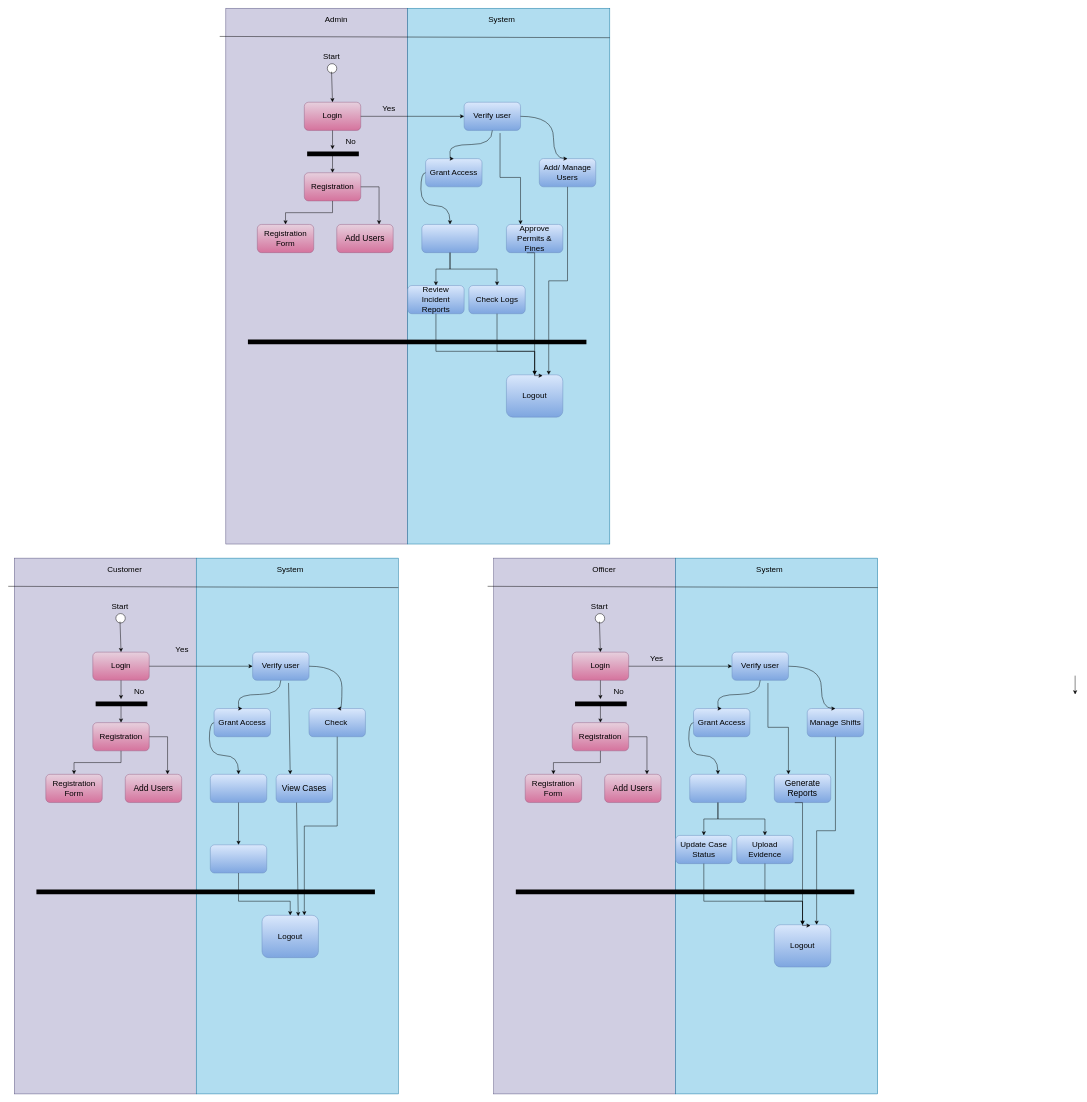
The diagram is 1087 pixels wide and 1102 high, and some of its shapes have lost their labels. Here are the shapes that lost their labels. From the top down, the box of each, then its label:
(421, 224, 478, 253): View Alerts
(210, 774, 267, 803): Report Incident
(689, 774, 746, 803): VIew Assigned Cases
(210, 844, 267, 873): Chec Status
